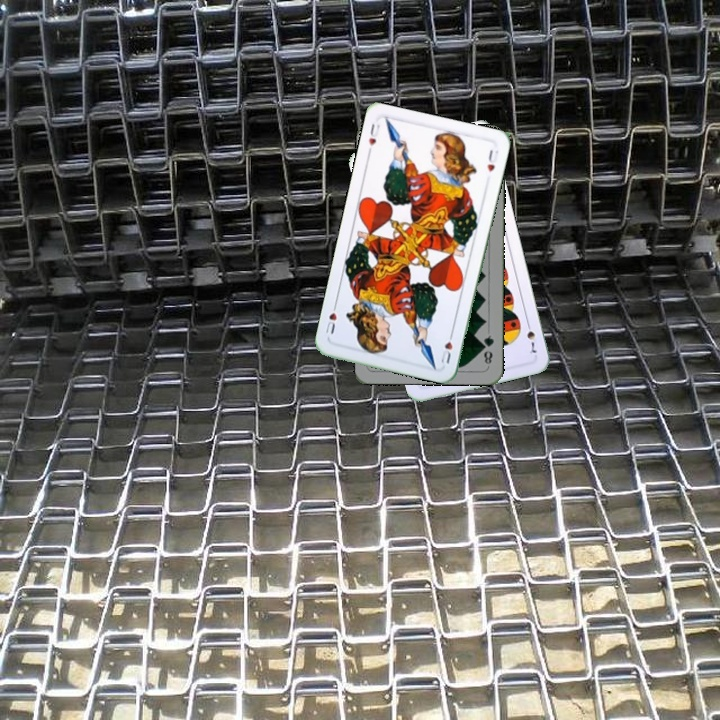G8: (479, 331, 496, 367)
HU: (437, 327, 456, 366), (364, 119, 382, 148)
S7: (523, 317, 539, 356)
